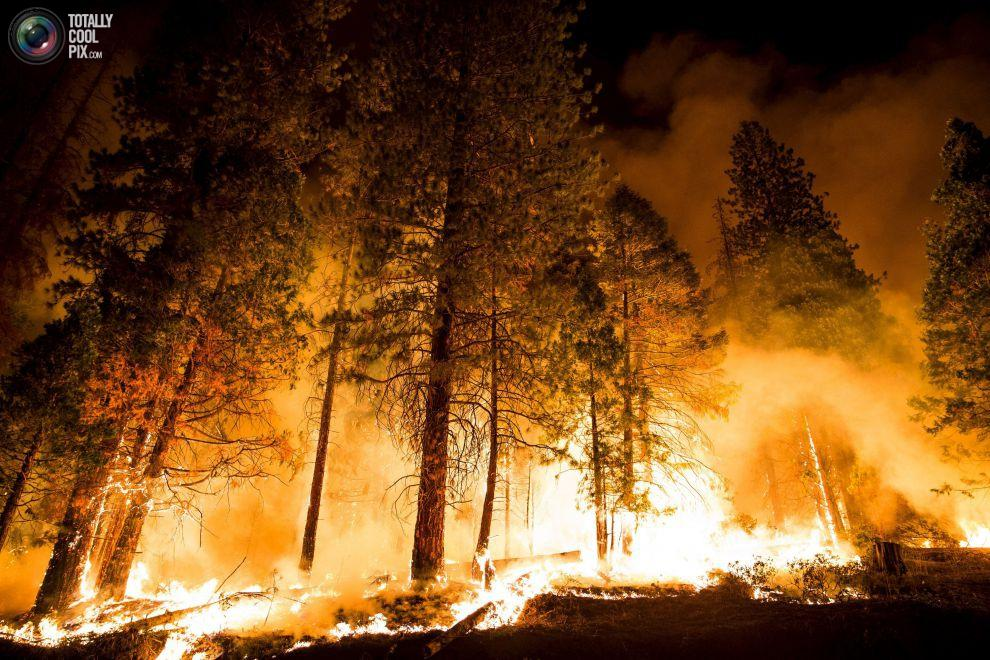Fire: (506, 353, 872, 606), (44, 550, 489, 660)
